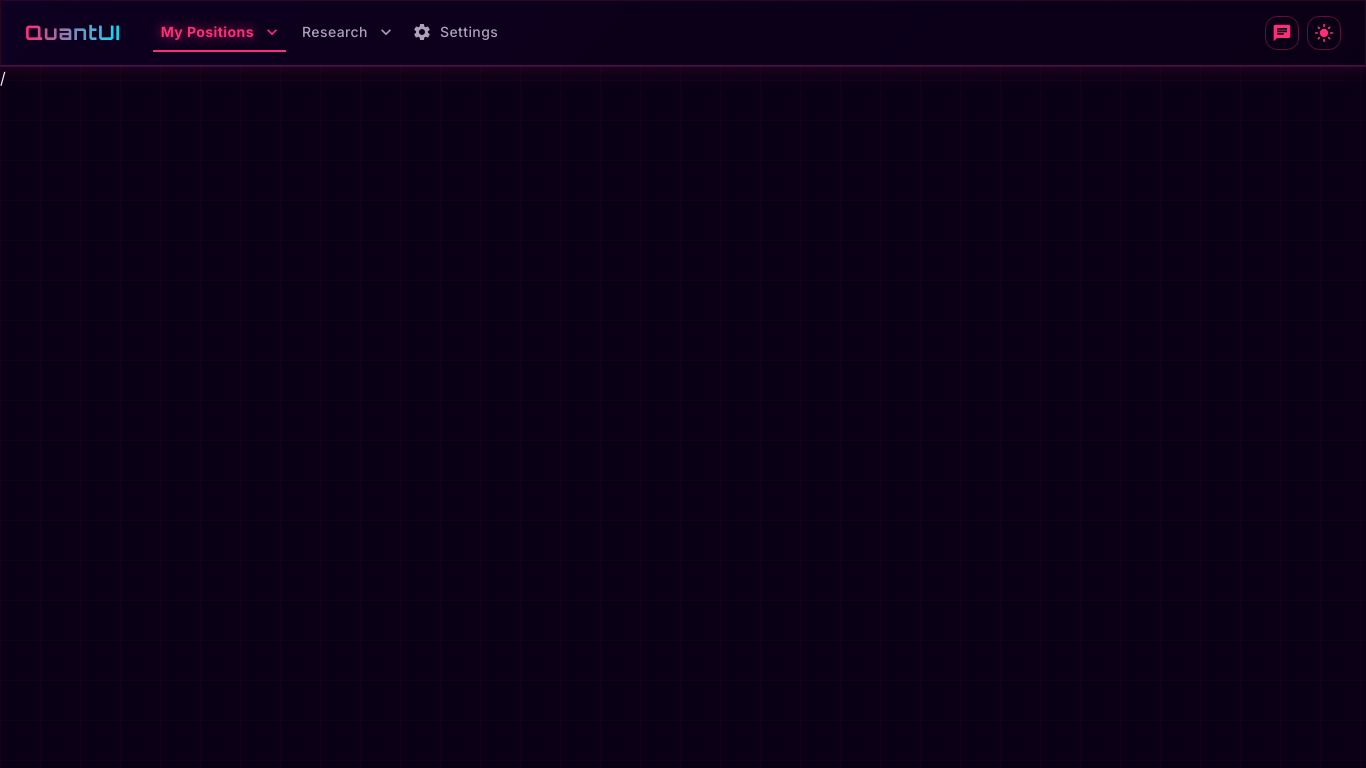
NavBar › flips the theme icon when the theme is toggled
The width and height of the screenshot is (1366, 768).
Expected: the icon with test id "LightModeIcon" is shown, [1314,23,1334,43]
Click the button with test id "LightModeIcon".
click(1324, 33)  # box [1307,16,1341,50]
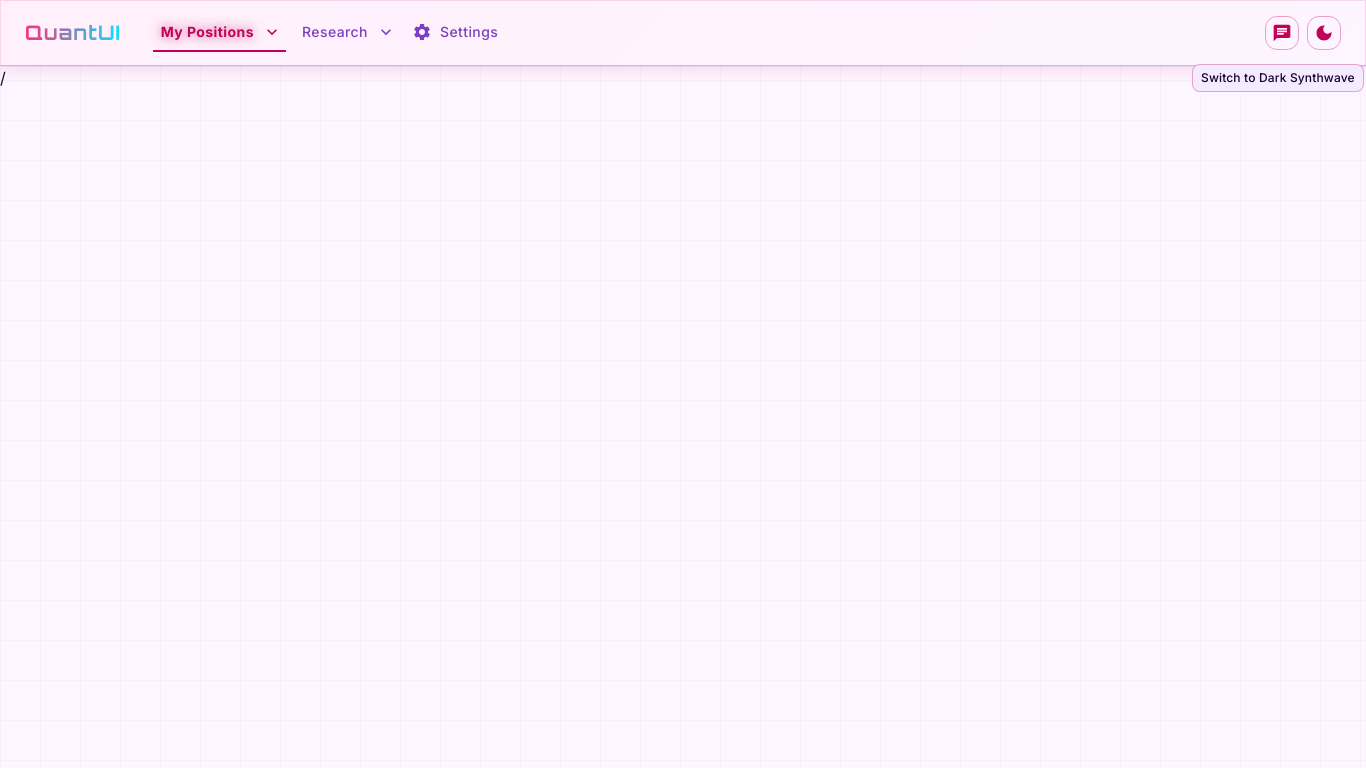
Now the icon with test id "DarkModeIcon" is shown, box [1314,23,1334,43]
